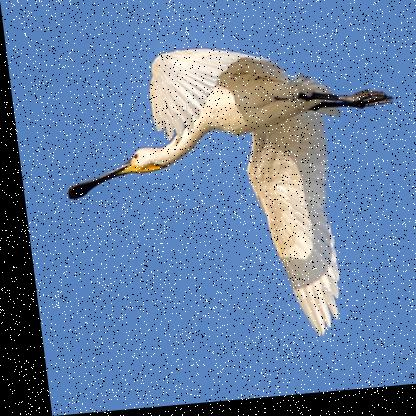Burung: (47, 38, 412, 359)
